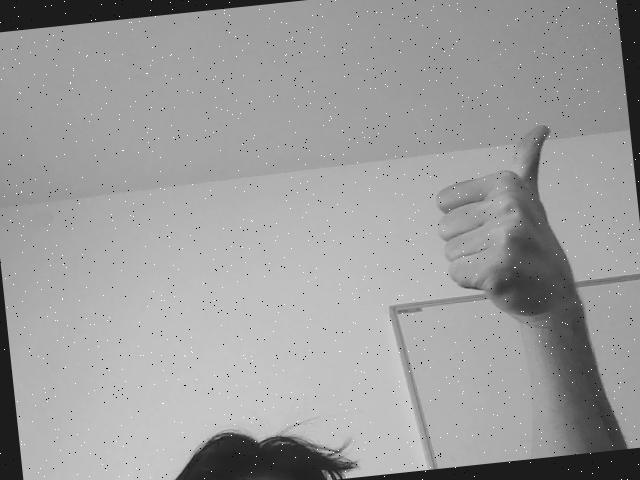good: (424, 116, 580, 327)
